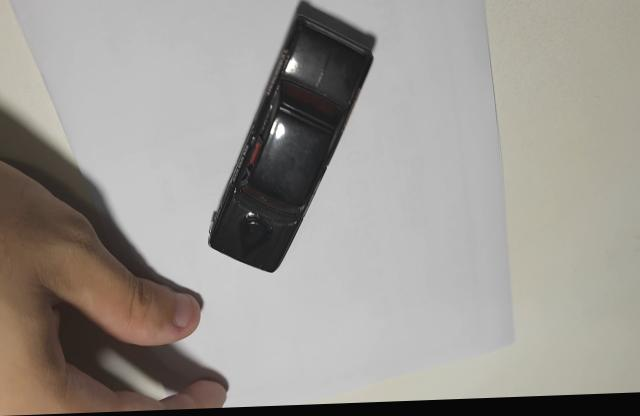01_FORD: (207, 1, 377, 274)
